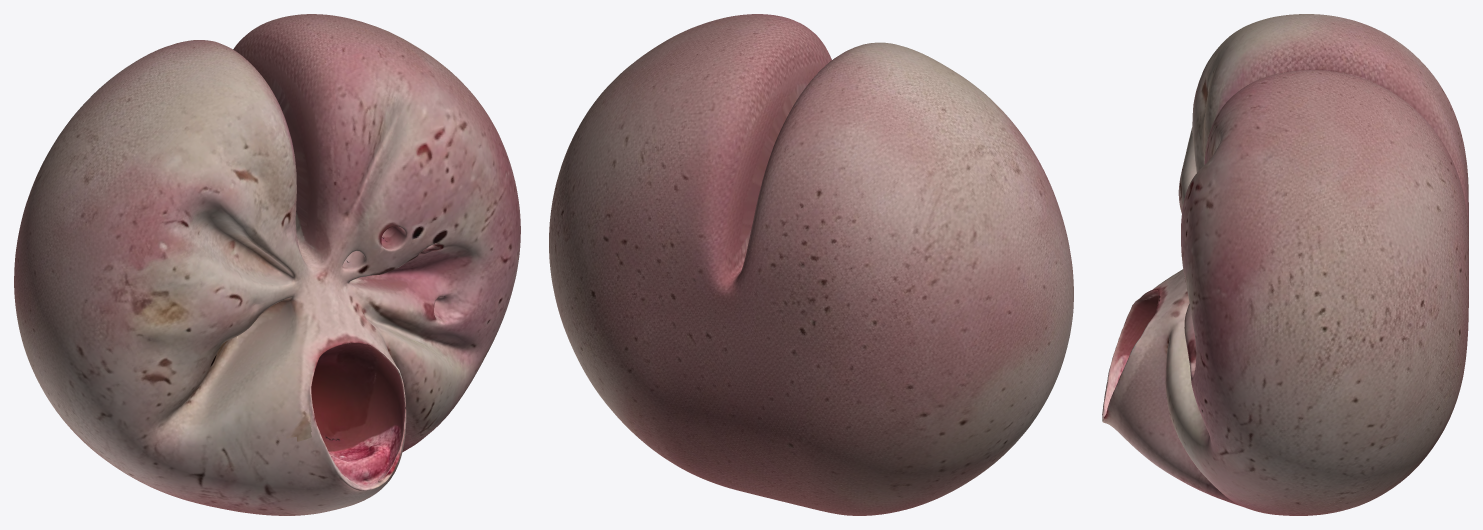
Rendered from vet_v2_path_polycystic-kidney.glb.
The picture shows the model from 3 angles, left to right: view 1: azimuth 30°, elevation 25°; view 2: azimuth 150°, elevation 25°; view 3: azimuth 270°, elevation 25°; orthographic projection. The views are drawn at different scales.
Parts seen in each view (by area): view 1: model; view 2: model; view 3: model.
Part boxes in pixels (left/top/right/bottom): model: left=14, top=14, right=520, bottom=515; model: left=549, top=14, right=1073, bottom=515; model: left=1102, top=14, right=1468, bottom=515.
Bounding box in the file's own units: 1.9 × 1.71 × 1.32.
1 material, 1 textured.
